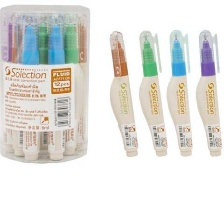correction_fluid: (105, 27, 140, 158), (135, 27, 170, 157), (192, 28, 224, 158), (165, 25, 195, 157), (60, 13, 87, 155), (17, 14, 43, 161), (8, 12, 29, 157), (45, 13, 65, 161), (71, 11, 88, 153), (36, 14, 52, 156), (0, 12, 15, 153)
plastic_box: (0, 2, 91, 165)
